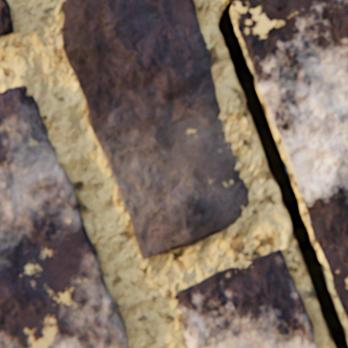brick: (63, 0, 248, 257), (230, 0, 347, 320), (0, 85, 129, 347), (175, 248, 316, 347), (0, 0, 14, 35)
crack: (217, 1, 347, 347)
